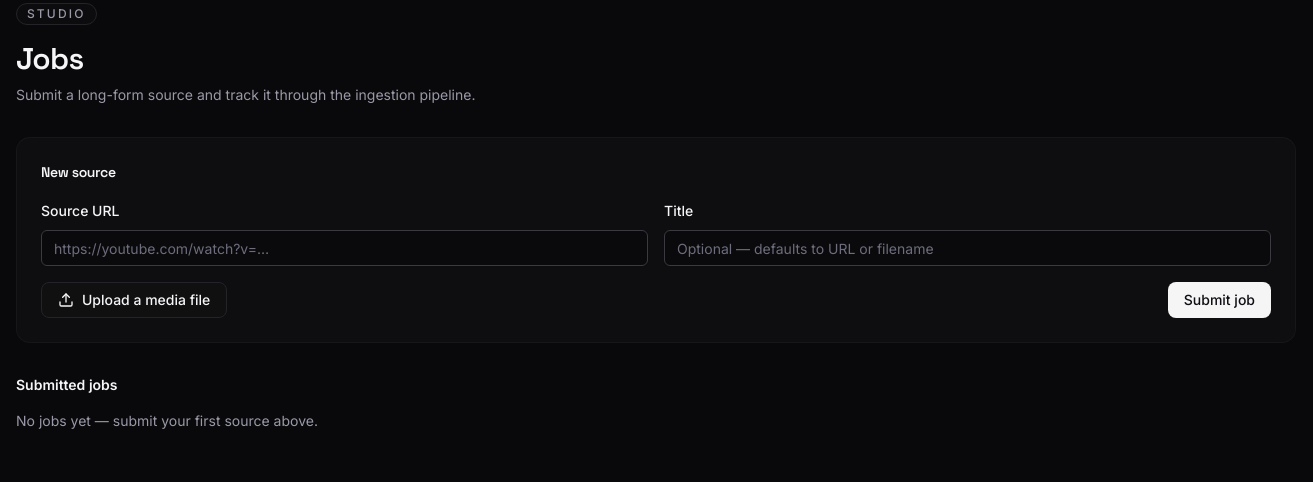
Scenario: JobsPage › shows the backend error message when submission fails
Expected: the text "No jobs yet — submit your first source above." is shown, [16,412,318,429]
Type "https://example.com/v.mp4" into the field labelled "Source URL" at coordinates (344, 248), box [41,230,648,266]
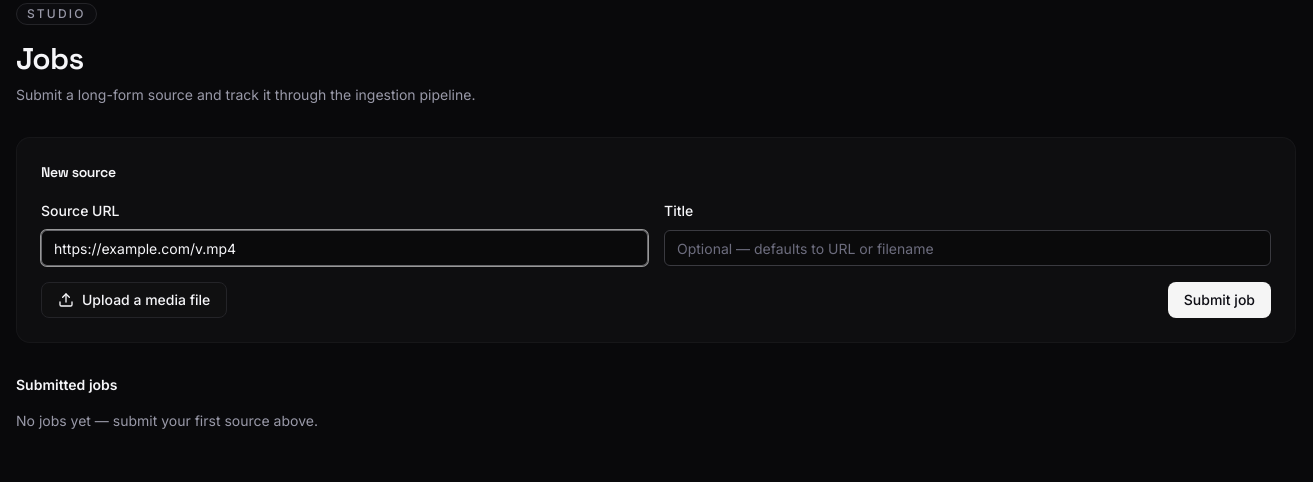
Click the button "Submit job" at coordinates (1219, 300), box [1168,282,1271,318]
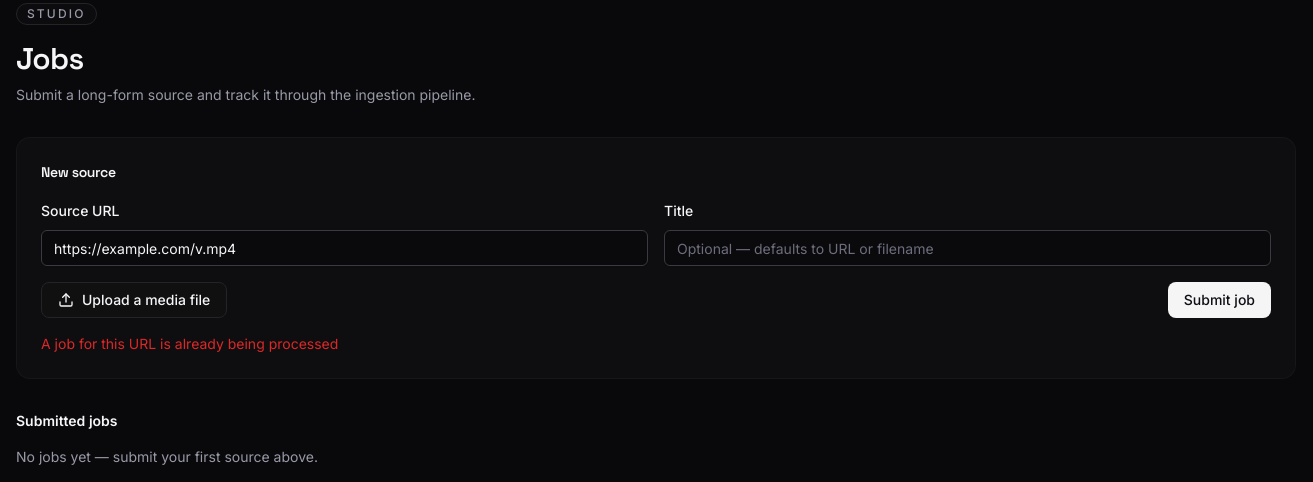
Expected: the text "A job for this URL is already being processed" is shown, [41,335,338,352]
